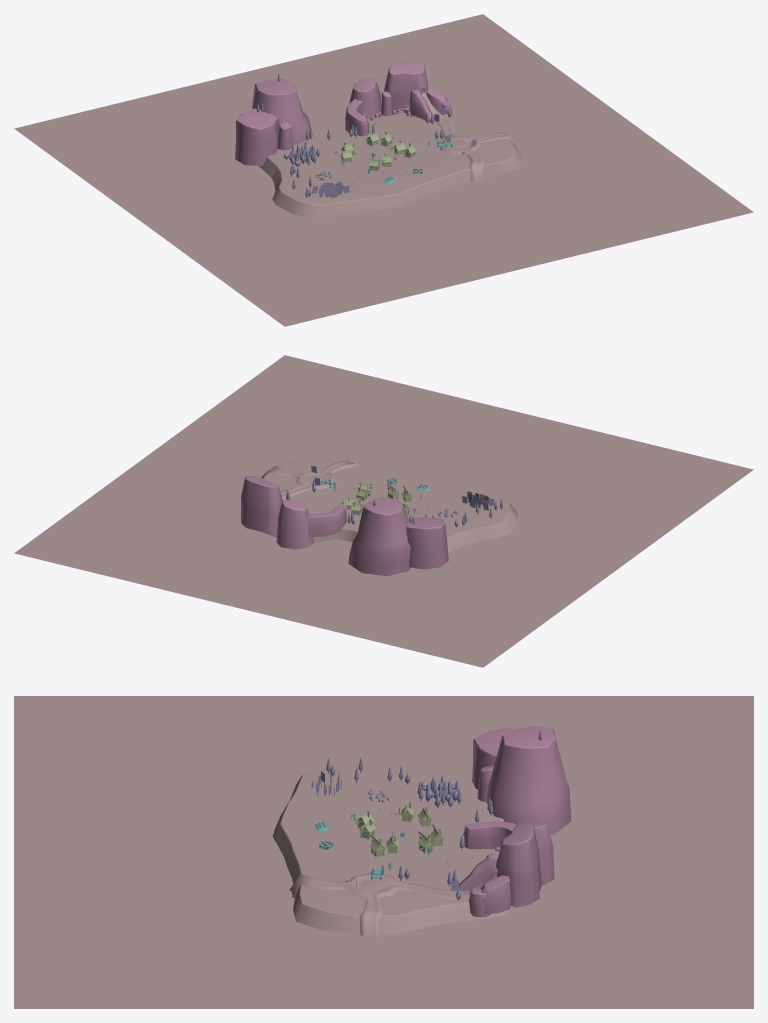
The model's file is Finally_Location.fbx.
3 views of the same model, one above another, from view 1: azimuth 30°, elevation 25°; view 2: azimuth 150°, elevation 25°; view 3: azimuth 270°, elevation 25° (orthographic). The views are drawn at different scales.
Parts seen in each view (by area): view 1: water, base, mountains, rivers, trees; view 2: water, mountains, base, rivers; view 3: water, base, mountains, rivers, les, trees.
Part boxes in pixels (x1,y1,x2,y2): water: (14, 14, 753, 326); base: (259, 111, 522, 218); mountains: (235, 61, 452, 165); rivers: (421, 93, 517, 181); trees: (256, 73, 451, 198); water: (14, 355, 753, 667); mountains: (241, 476, 448, 576); base: (262, 456, 518, 552); rivers: (261, 460, 358, 499); water: (14, 696, 753, 1008); base: (272, 766, 511, 934); mountains: (459, 726, 571, 917); rivers: (289, 868, 497, 936); les: (417, 775, 461, 807); trees: (326, 729, 542, 900).
Bounding box in the file's own units: 43.56 × 6.48 × 43.56.
